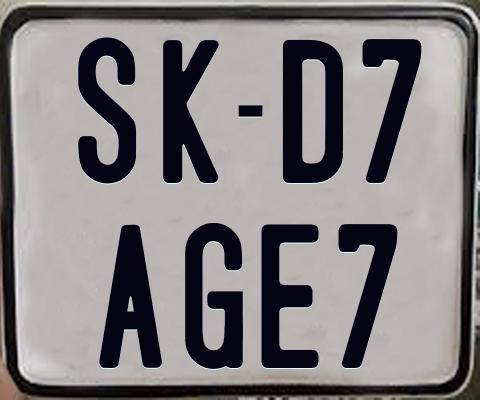7: (362, 36, 426, 183), (335, 223, 398, 371)
A: (97, 225, 163, 372)
D: (282, 38, 344, 185)
E: (259, 222, 320, 369)
G: (182, 222, 242, 374)
K: (160, 39, 221, 187)
S: (75, 36, 138, 187)
